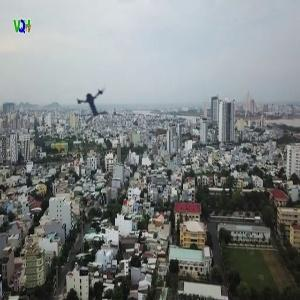drone: (68, 79, 115, 126)
